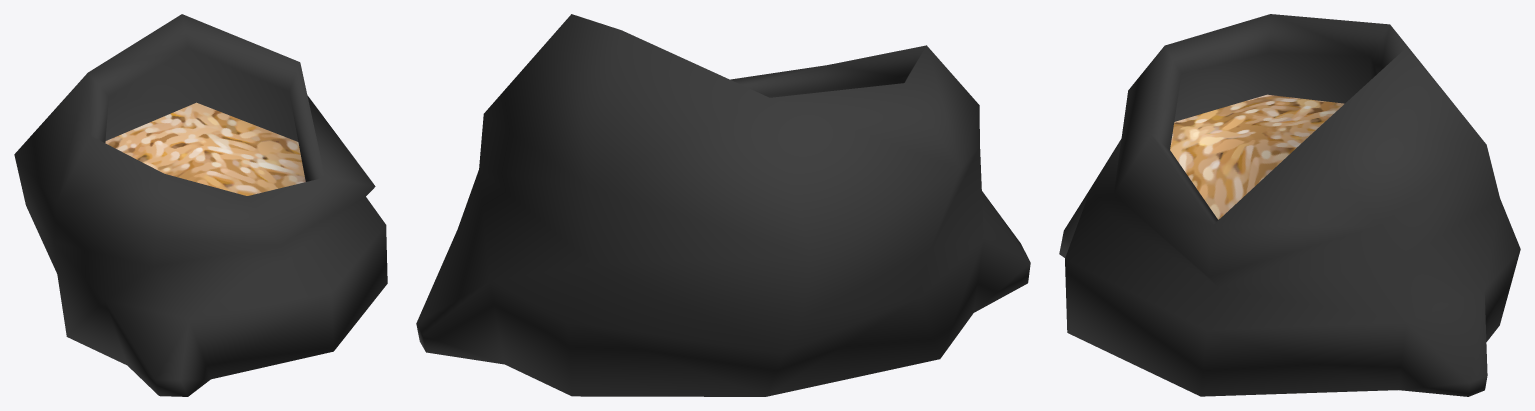
File: SM_PROP_sack_09.FBX
3 views of the same model, side by side, from view 1: azimuth 30°, elevation 25°; view 2: azimuth 150°, elevation 25°; view 3: azimuth 270°, elevation 25° (orthographic). The views are drawn at different scales.
Parts seen in each view (by area): view 1: SM_PROP_sack_09; view 2: SM_PROP_sack_09; view 3: SM_PROP_sack_09.
Part boxes in pixels (bbox=[...]): SM_PROP_sack_09: bbox=[14, 14, 387, 396]; SM_PROP_sack_09: bbox=[416, 14, 1030, 396]; SM_PROP_sack_09: bbox=[1059, 14, 1520, 396].
Bounding box in the file's own units: 64.63 × 70.85 × 49.06.
